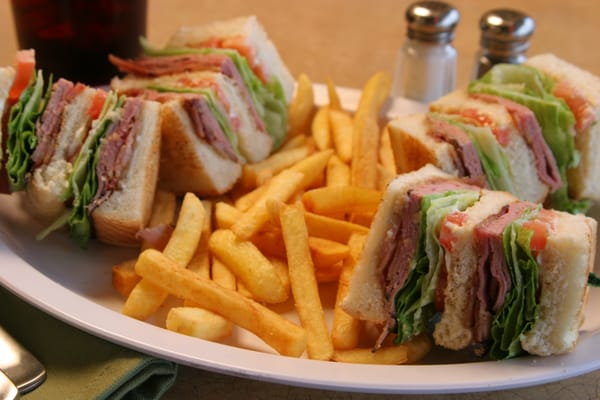soup: (332, 165, 597, 362), (389, 63, 599, 213), (65, 92, 163, 247), (164, 13, 297, 107)
